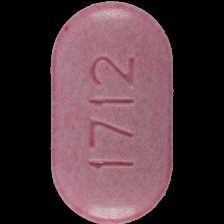0179-0199: (0, 0, 224, 224)
